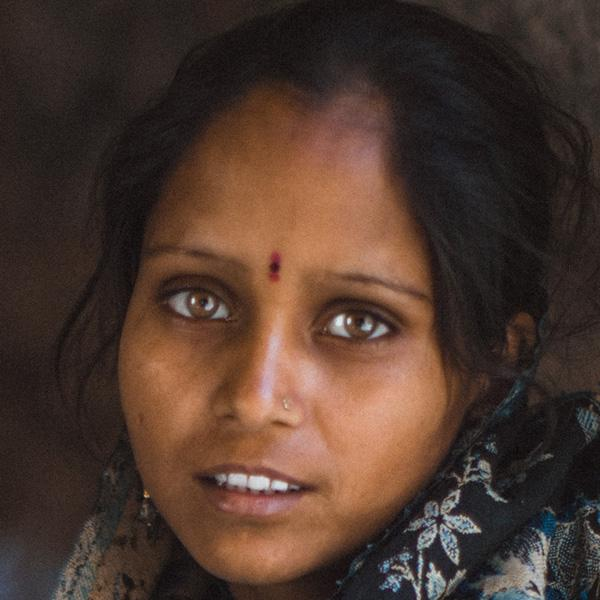Eyes: (148, 265, 244, 338), (308, 291, 406, 355)
